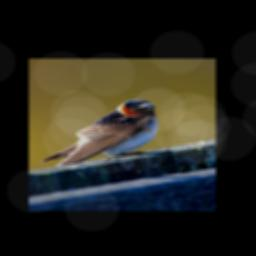Swallow: (41, 99, 159, 169)
